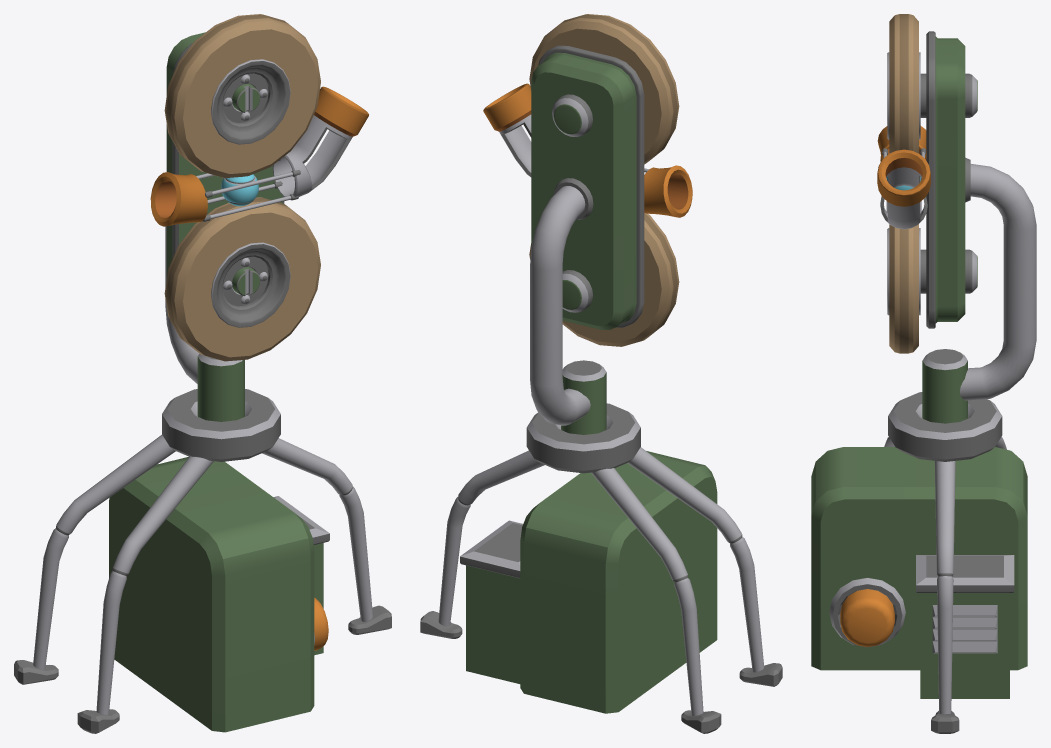
Rendered from pitchingMachine.fbx.
The picture shows the model from 3 angles, left to right: view 1: azimuth 30°, elevation 25°; view 2: azimuth 150°, elevation 25°; view 3: azimuth 270°, elevation 25°; orthographic projection. The views are drawn at different scales.
Visible parts, largest first — view 1: body, wheel2, wheel3, motor, frame, ball; view 2: body, motor, frame, wheel2, wheel3; view 3: body, motor, frame, wheel2, wheel3, button.
Boxes of the visible parts, x1,y1,x2,y2 form: body: (14, 353, 391, 733); wheel2: (164, 14, 320, 178); wheel3: (164, 197, 320, 361); motor: (150, 32, 368, 278); frame: (165, 226, 199, 383); ball: (221, 174, 258, 206); body: (420, 360, 782, 733); motor: (483, 45, 692, 329); frame: (530, 178, 593, 425); wheel2: (529, 14, 679, 164); wheel3: (529, 213, 679, 346); body: (811, 349, 1027, 733); motor: (877, 31, 965, 328); frame: (960, 157, 1036, 400); wheel2: (887, 14, 977, 153); wheel3: (887, 224, 977, 353); button: (840, 589, 894, 647).
Size of the model in its own units: 2.28 by 4.26 by 1.37.
